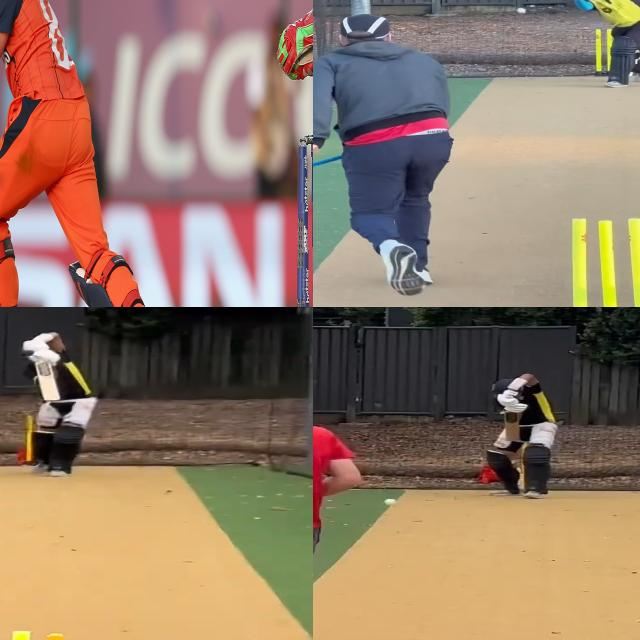Cricket ball: (383, 498, 398, 507), (515, 7, 526, 13)
Stumps: (556, 216, 640, 307), (297, 135, 313, 307)
